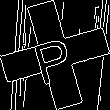P_N: (30, 26, 80, 84)
